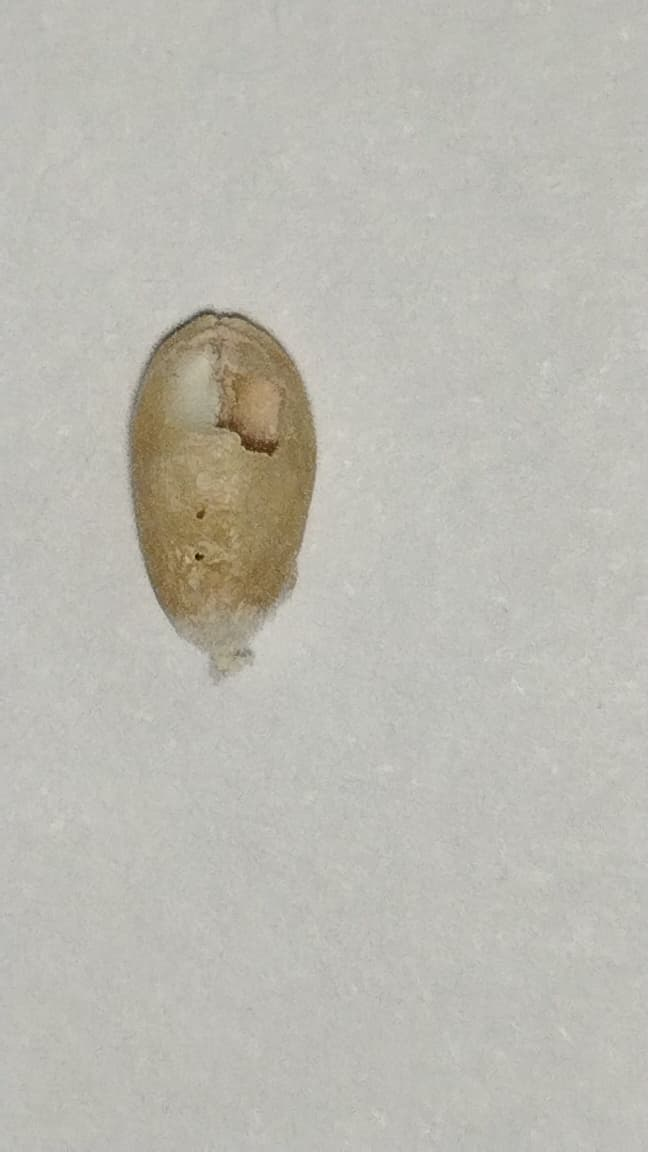damage: (125, 309, 318, 683)
insectdamage: (174, 338, 315, 478), (174, 486, 243, 606)
